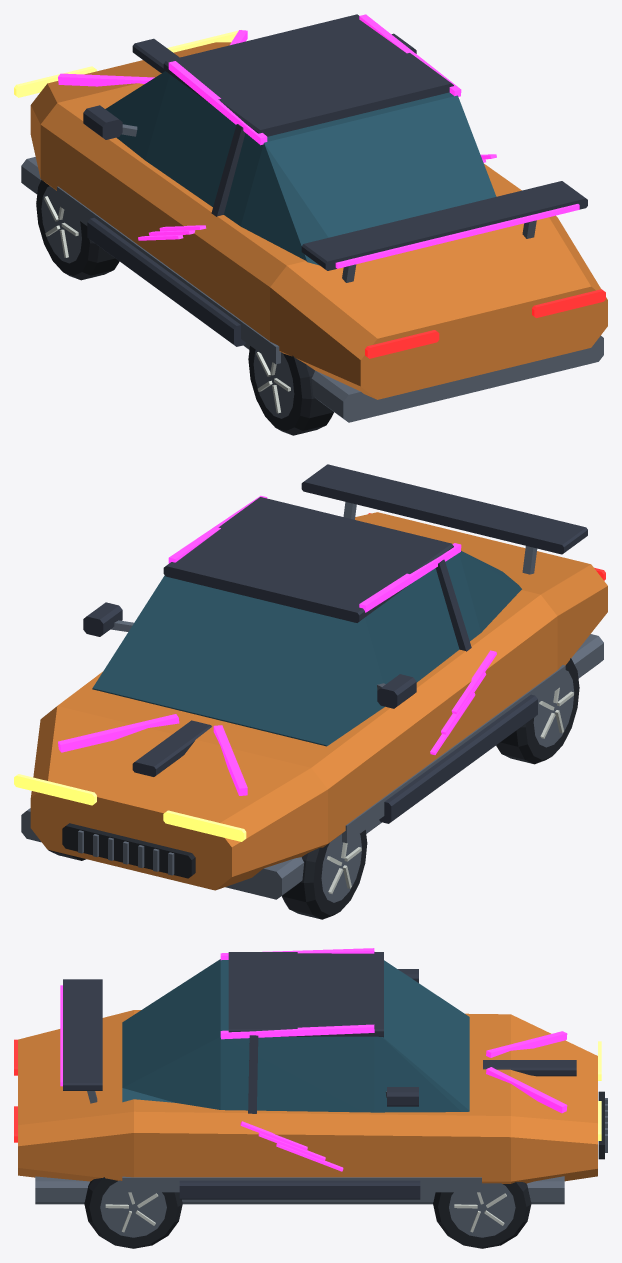
Rendered from kestrel_compact.glb.
The picture shows the model from 3 angles, top to bottom: view 1: azimuth 30°, elevation 25°; view 2: azimuth 150°, elevation 25°; view 3: azimuth 270°, elevation 25°; orthographic projection. The views are drawn at different scales.
Parts seen in each view (by area): view 1: Body_Paint_Amber, Body_Glass_Opaque, Body_Paint_Obsidian, Body_Metal_Chassis, Body_Neon_Magenta, Rubber (×2), Metal_Chassis (×2), Body_Lamp_Red, Body_Lamp_Amber; view 2: Body_Paint_Amber, Body_Glass_Opaque, Body_Paint_Obsidian, Body_Metal_Chassis, Body_Neon_Magenta, Rubber (×2), Metal_Chassis (×2), Body_Rubber, Body_Lamp_Amber; view 3: Body_Paint_Amber, Body_Glass_Opaque, Body_Paint_Obsidian, Body_Metal_Chassis, Metal_Chassis (×2), Rubber (×2), Body_Neon_Magenta, Paint_Ivory (×2).
Boxes of the visible parts, x1,y1,x2,y2 form: Body_Paint_Amber: [30, 42, 607, 399]; Body_Glass_Opaque: [105, 71, 496, 265]; Body_Paint_Obsidian: [83, 14, 587, 346]; Body_Metal_Chassis: [21, 124, 603, 422]; Body_Neon_Magenta: [58, 14, 579, 268]; Rubber (×2): [36, 180, 333, 435]; Metal_Chassis (×2): [41, 186, 294, 418]; Body_Lamp_Red: [365, 289, 605, 358]; Body_Lamp_Amber: [14, 29, 241, 97]; Body_Paint_Amber: [30, 512, 607, 890]; Body_Glass_Opaque: [92, 551, 521, 746]; Body_Paint_Obsidian: [83, 464, 587, 823]; Body_Metal_Chassis: [21, 502, 603, 899]; Body_Neon_Magenta: [58, 495, 496, 795]; Rubber (×2): [281, 658, 579, 919]; Metal_Chassis (×2): [321, 670, 574, 902]; Body_Rubber: [62, 823, 195, 878]; Body_Lamp_Amber: [14, 774, 246, 841]; Body_Paint_Amber: [18, 1010, 597, 1183]; Body_Glass_Opaque: [122, 959, 469, 1112]; Body_Paint_Obsidian: [63, 952, 576, 1199]; Body_Metal_Chassis: [35, 1091, 607, 1204]; Metal_Chassis (×2): [100, 1180, 515, 1237]; Rubber (×2): [84, 1177, 531, 1248]; Body_Neon_Magenta: [60, 948, 567, 1171]; Paint_Ivory (×2): [105, 1192, 506, 1232].
Size of the model in its own units: 1.88 by 1.45 by 3.75.
